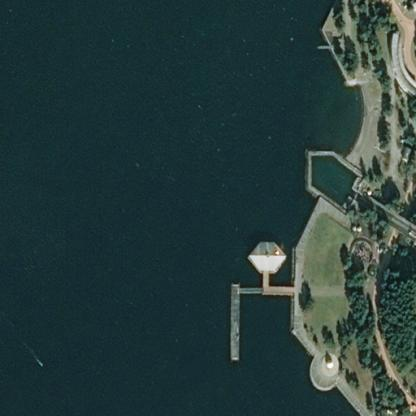ship: (40, 363, 42, 365)
